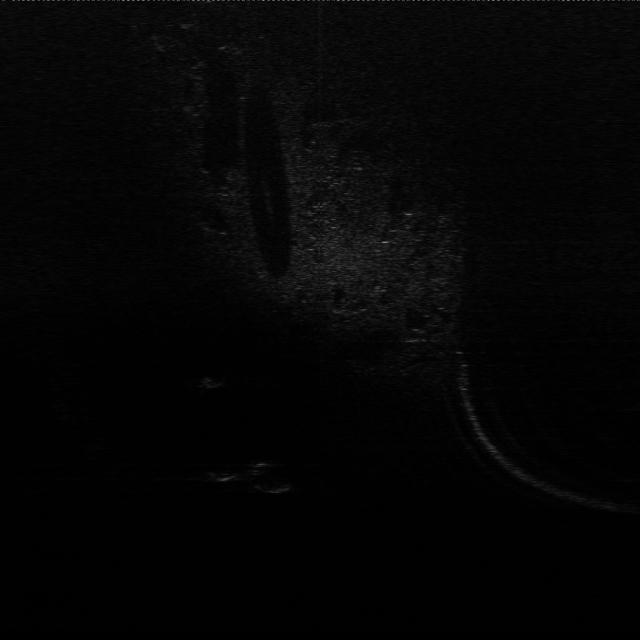cube: (202, 456, 240, 484)
square cage: (196, 368, 228, 392)
tyre: (248, 459, 304, 496)
